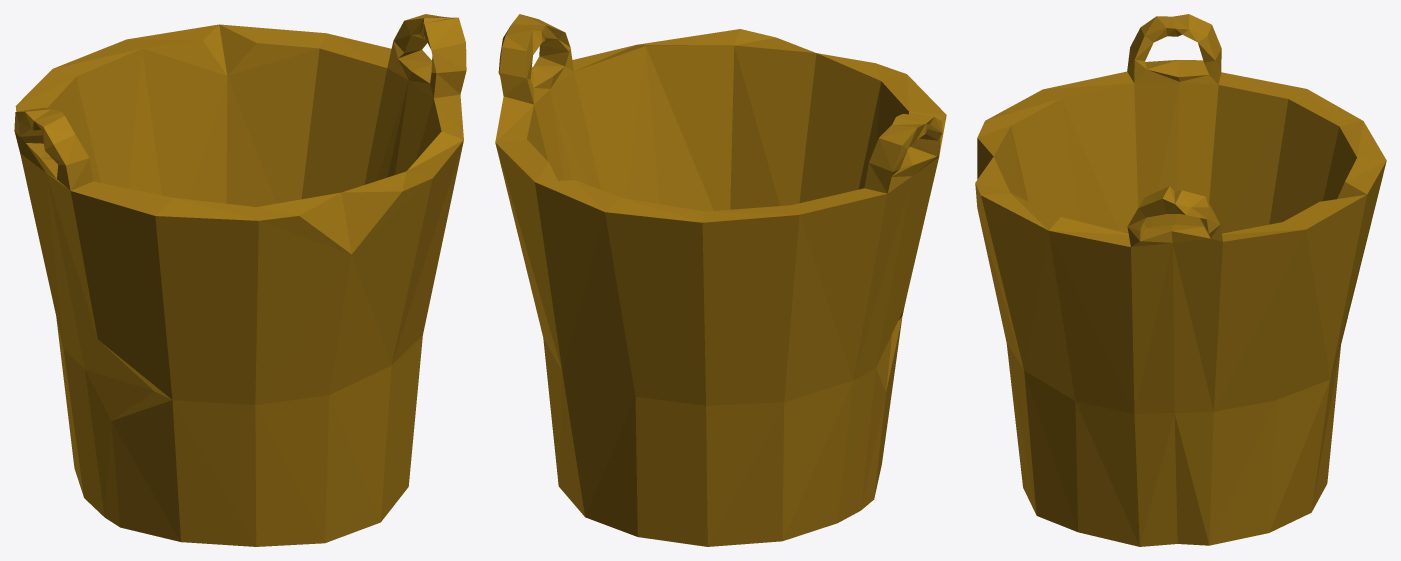
The model's file is SFHW_Herbalism_Tools_004.fbx.
The picture shows the model from 3 angles, left to right: view 1: azimuth 30°, elevation 25°; view 2: azimuth 150°, elevation 25°; view 3: azimuth 270°, elevation 25°; orthographic projection. The views are drawn at different scales.
Visible parts, largest first — view 1: SFHW_Herbalism_Tools_004; view 2: SFHW_Herbalism_Tools_004; view 3: SFHW_Herbalism_Tools_004.
Boxes of the visible parts, x1,y1,x2,y2 form: SFHW_Herbalism_Tools_004: (14, 14, 466, 546); SFHW_Herbalism_Tools_004: (495, 14, 946, 546); SFHW_Herbalism_Tools_004: (975, 14, 1386, 546).
Size of the model in its own units: 10.68 by 10.03 by 9.78.
